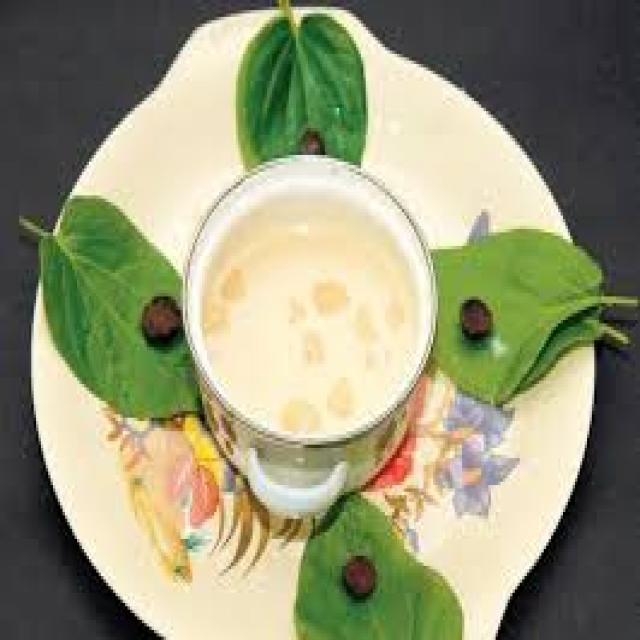paal kolukattai: (199, 174, 428, 434)
